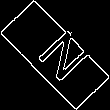N_SW: (22, 23, 88, 87)
